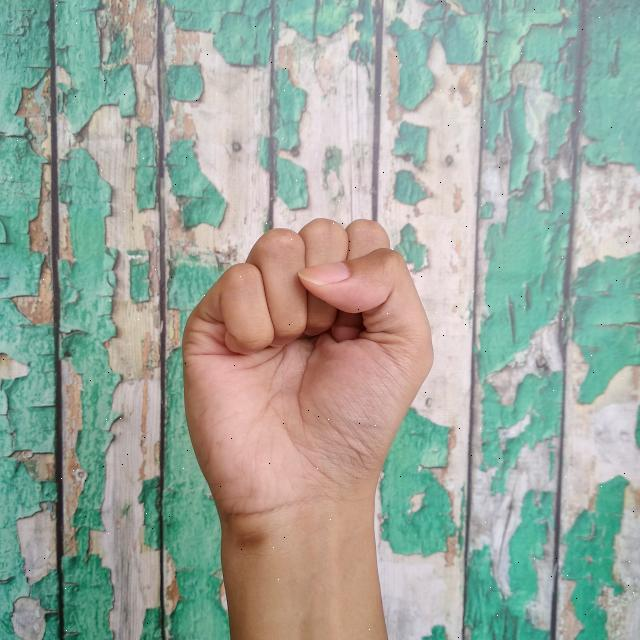S: (177, 210, 445, 640)
